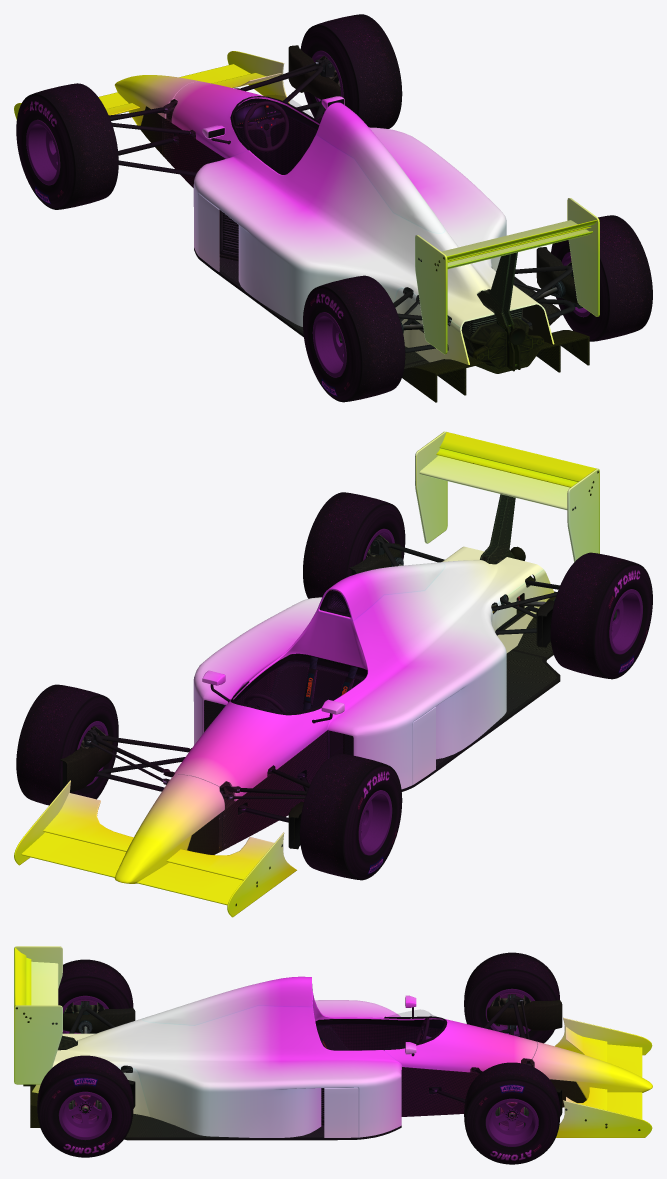
Rendered from formula.glb.
3 views of the same model, one above another, from view 1: azimuth 30°, elevation 25°; view 2: azimuth 150°, elevation 25°; view 3: azimuth 270°, elevation 25° (orthographic). The views are drawn at different scales.
Visible parts, largest first — view 1: misc_d, chassis, wheel_lf, wheel_lr, misc_f, wheel_rf, wheel_rr, extra_4, extra_8, misc_c, misc_e, hub_rf (+9 smaller); view 2: misc_d, chassis, misc_f, misc_e, wheel_lf, wheel_lr, misc_c, wheel_rf, wheel_rr, extra_6, extra_8, extra_4 (+8 smaller); view 3: misc_d, wheel_rf, wheel_rr, chassis, misc_e, misc_f, misc_c, wheel_lf, extra_4, extra_6, wheel_lr, extra_8 (+7 smaller).
Part boxes in pixels (x1,y1,x2,y2): misc_d: (193,127,543,327); chassis: (109,63,571,371); wheel_lf: (16,83,118,209); wheel_lr: (303,275,405,402); misc_f: (415,198,599,354); wheel_rf: (300,14,402,128); wheel_rr: (551,215,652,341); extra_4: (316,102,444,233); extra_8: (194,248,589,402); misc_c: (171,81,344,158); misc_e: (14,51,289,119); hub_rf: (241,45,340,120); misc_d: (193,546,543,789); chassis: (91,543,559,850); misc_f: (415,431,599,564); misc_e: (14,780,296,917); wheel_lf: (299,753,402,880); wheel_lr: (550,552,652,679); misc_c: (174,670,344,801); wheel_rf: (16,684,118,805); wheel_rr: (303,492,405,598); extra_6: (114,774,224,883); extra_8: (401,591,560,791); extra_4: (316,562,444,620); misc_d: (52,993,402,1137); wheel_rf: (464,1062,560,1164); wheel_rr: (37,1055,133,1157); chassis: (23,1003,534,1125); misc_e: (555,1017,652,1137); misc_f: (14,946,77,1084); misc_c: (384,995,537,1072); wheel_lf: (464,952,559,1043); extra_4: (142,976,312,1025); extra_6: (532,1041,652,1099); wheel_lr: (58,959,133,1033); extra_8: (30,1086,401,1140).
Bounding box in the file's own units: 2.11 × 0.9548 × 4.39.
Materials: 23 (23 with a texture image).
